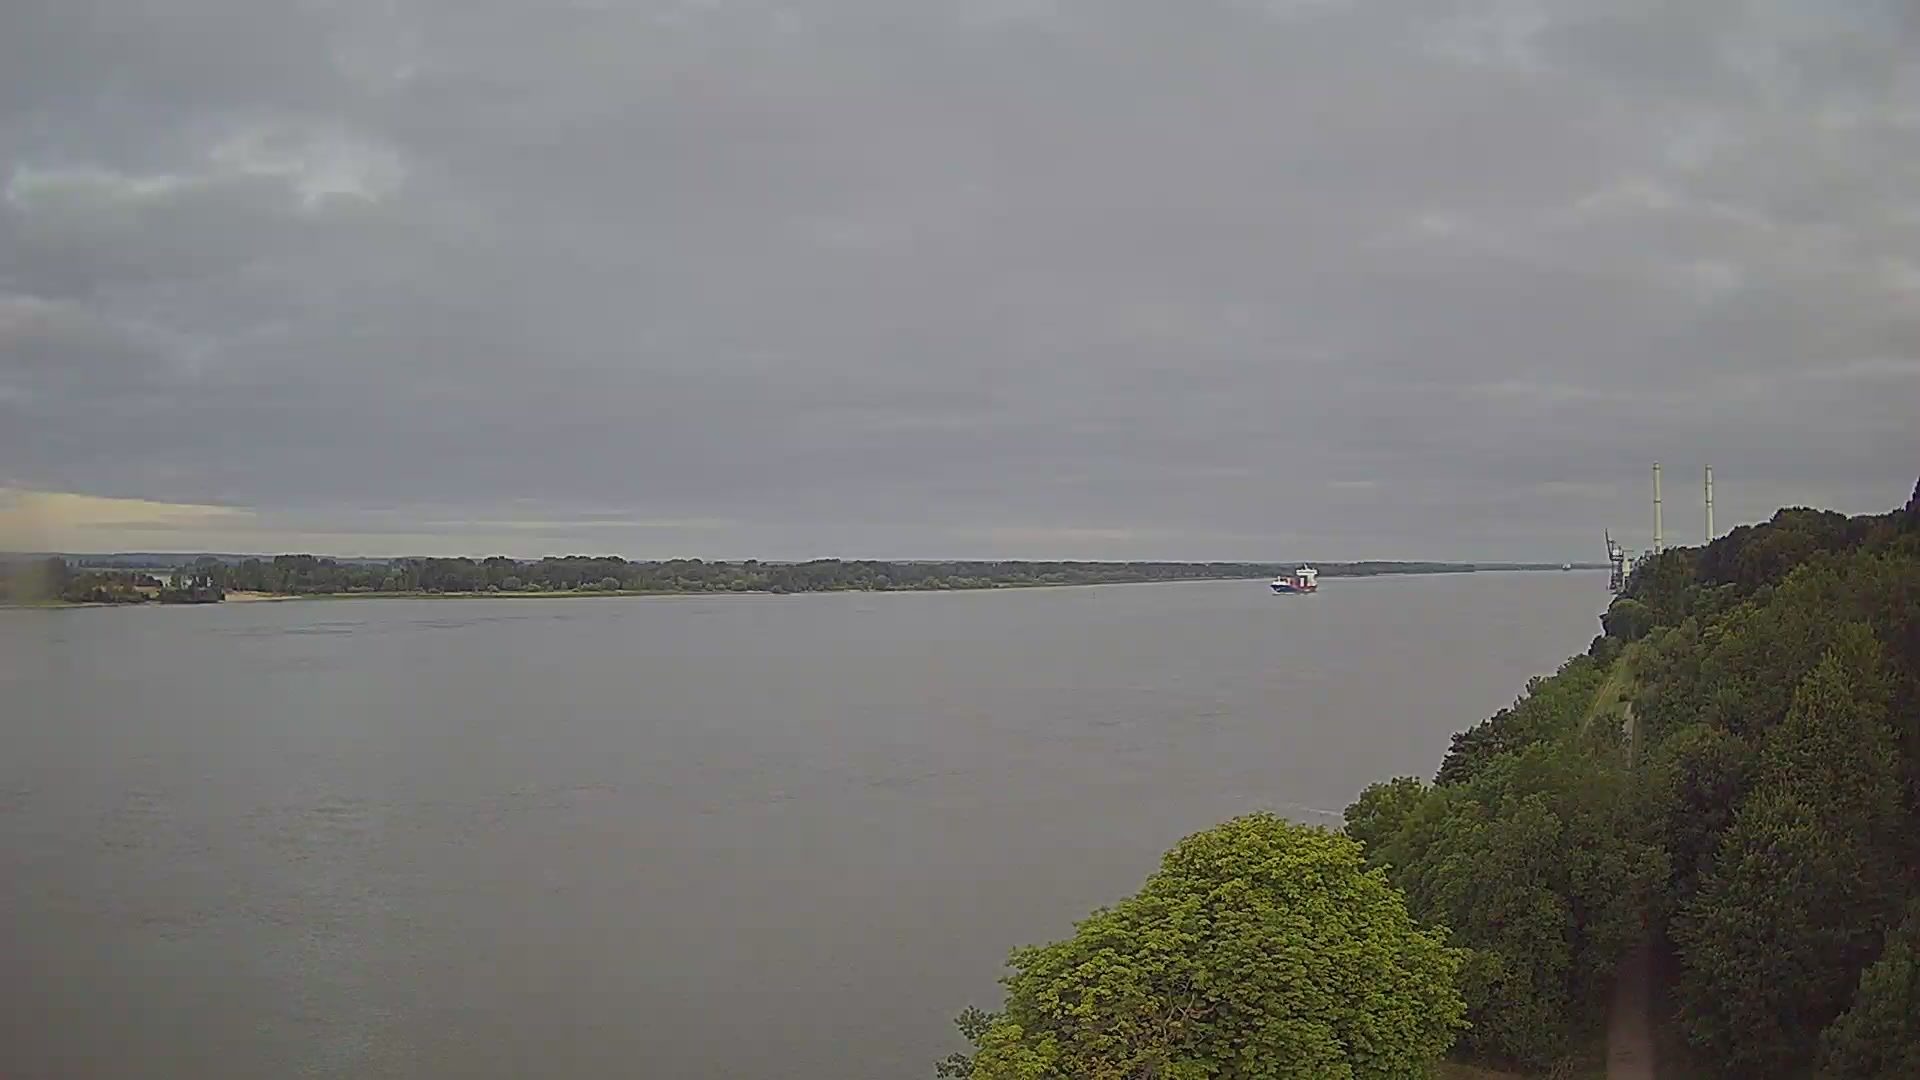sea: (1269, 560, 1319, 595), (1561, 562, 1571, 570)
